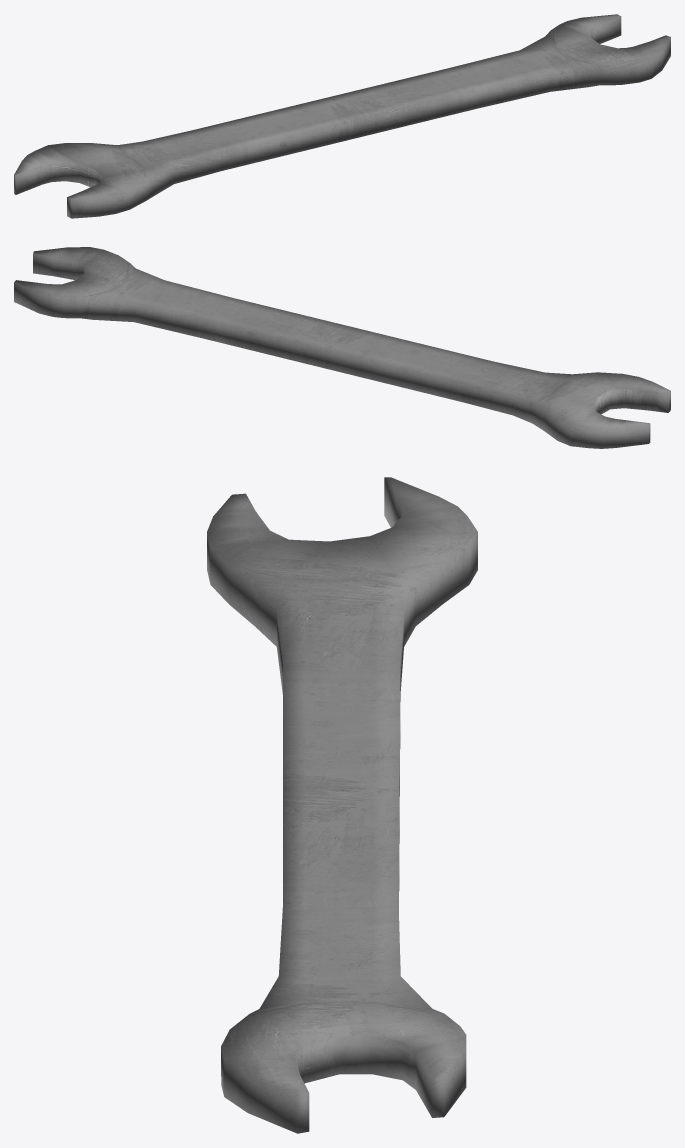
The model's file is Tool.fbx.
3 renders of one model, top to bottom at view 1: azimuth 30°, elevation 25°; view 2: azimuth 150°, elevation 25°; view 3: azimuth 270°, elevation 25°, orthographic. The views are drawn at different scales.
Visible parts, largest first — view 1: Tool_Lp.003; view 2: Tool_Lp.003; view 3: Tool_Lp.003.
Part boxes in pixels (bbox=[...]): Tool_Lp.003: bbox=[14, 14, 670, 218]; Tool_Lp.003: bbox=[14, 247, 670, 448]; Tool_Lp.003: bbox=[207, 477, 477, 1133].
Bounding box in the file's own units: 391 × 12.52 × 72.4.
Materials: 1 (1 with a texture image).
